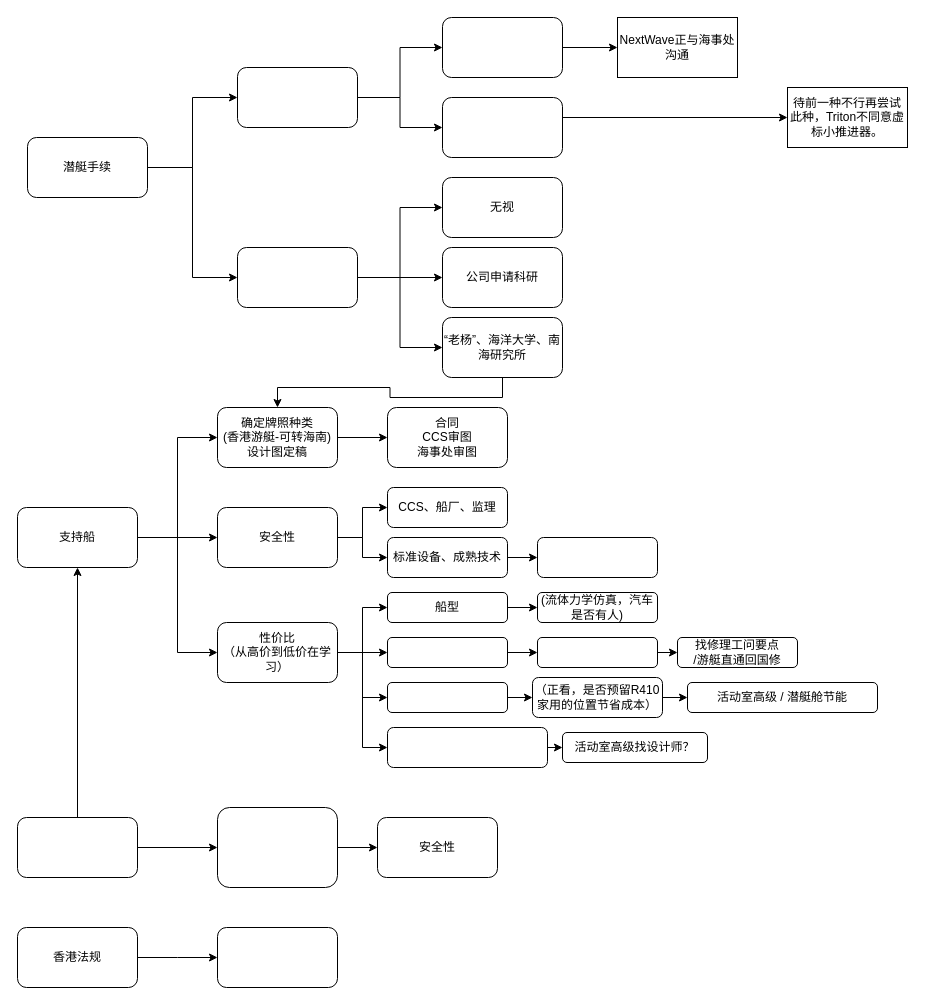
Some shapes in this 925 by 1005 pixel diagram are drawn without their labels. Each missing label, with the centre of its shape:
"1、目的地生物或遗迹 2、水文环境(视野清晰、洋流、浪高) 3、安全(远离航道、渔场、军事区、油气)" belongs at pixel 277 847.
"下潜地点" belongs at pixel 77 847.
"下潜许可" belongs at pixel 297 277.
"内装，非安全相关的，是否用家用，标准件，便宜好修。" belongs at pixel 467 747.
"发动机和发电机" belongs at pixel 447 652.
"潍柴/机械泵/中速" belongs at pixel 597 652.
"潜艇作为创新建造的游艇(IV类船舶)" belongs at pixel 502 47.
"潜艇牌照" belongs at pixel 297 97.
"空调" belongs at pixel 447 697.
"航标船、减摇设备" belongs at pixel 597 557.
"说明螺旋桨不是推进器，登记成4米以下，7.5KW以下附属船只" belongs at pixel 502 127.
